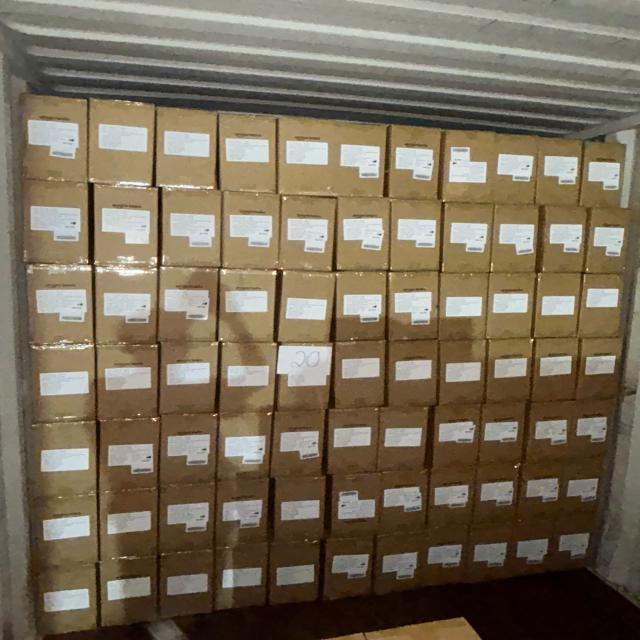Carton: (23, 418, 101, 566), (279, 117, 389, 199), (436, 129, 534, 205), (20, 89, 91, 184), (20, 181, 92, 266), (86, 98, 153, 186), (26, 265, 96, 346), (94, 186, 163, 268), (214, 481, 270, 582), (154, 106, 217, 190), (30, 344, 97, 422), (96, 266, 161, 346), (162, 186, 223, 267), (218, 111, 276, 195), (99, 344, 162, 421), (161, 267, 221, 346), (221, 192, 280, 272), (101, 420, 162, 494), (217, 270, 276, 346), (279, 196, 336, 274), (158, 411, 217, 486), (100, 555, 160, 627), (100, 487, 160, 559), (158, 341, 217, 414), (220, 341, 278, 414), (278, 272, 335, 346), (161, 484, 219, 556), (388, 126, 441, 204), (337, 197, 390, 274), (276, 343, 334, 413), (162, 550, 218, 621), (392, 198, 444, 274), (270, 474, 327, 543), (583, 145, 640, 214), (211, 543, 267, 613), (334, 272, 388, 344), (216, 412, 272, 480), (272, 408, 327, 477), (440, 200, 491, 274), (389, 273, 442, 344), (375, 533, 430, 599), (333, 338, 386, 406), (389, 340, 441, 408), (584, 208, 637, 274), (327, 406, 379, 473), (269, 541, 323, 605), (540, 204, 589, 274), (492, 203, 540, 274), (376, 406, 429, 470), (324, 536, 377, 600), (437, 275, 486, 344), (578, 272, 629, 338), (331, 472, 382, 538), (438, 339, 488, 406), (536, 139, 582, 210), (487, 275, 535, 343), (576, 336, 626, 400), (433, 405, 483, 468), (380, 471, 428, 536), (534, 338, 580, 403), (487, 339, 533, 404), (537, 272, 582, 338), (481, 402, 528, 464), (426, 471, 475, 528), (476, 466, 522, 524)
